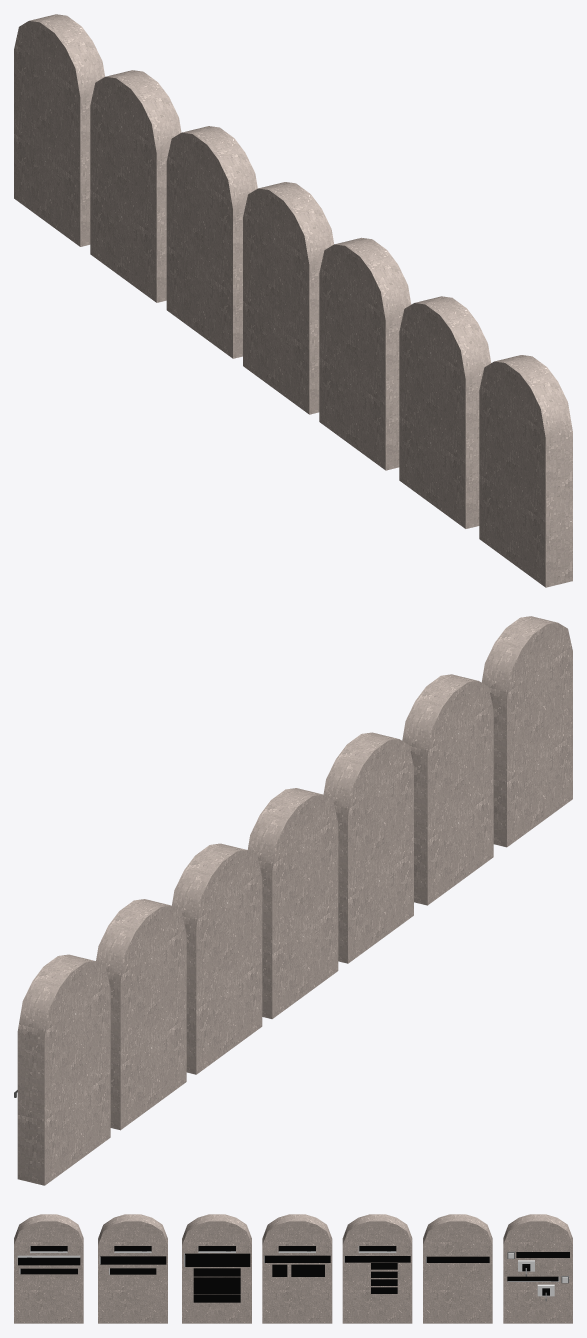
Rendered from Tombstones.fbx.
The picture shows the model from 3 angles, top to bottom: view 1: azimuth 30°, elevation 25°; view 2: azimuth 150°, elevation 25°; view 3: azimuth 270°, elevation 25°; orthographic projection. The views are drawn at different scales.
Visible parts, largest first — view 1: Tombstone_London, Tombstone_Zach, Tombstone_Nat, Tombstone_Cameron, Tombstone_SimpleFlips, Tombstone_ChiliCheese, Tombstone_Roshan; view 2: Tombstone_ChiliCheese, Tombstone_Zach, Tombstone_London, Tombstone_Cameron, Tombstone_Roshan, Tombstone_SimpleFlips, Tombstone_Nat; view 3: Tombstone_SimpleFlips, Tombstone_Zach, Tombstone_ChiliCheese, Tombstone_London, Tombstone_Cameron, Tombstone_Roshan, Tombstone_Nat, Text_5, Text_3, Text_4, Text_7, Text_6 (+3 smaller).
Boxes of the visible parts, <box> form: Tombstone_London: <box>479,355,572,587</box>; Tombstone_Zach: <box>399,296,491,528</box>; Tombstone_Nat: <box>319,237,411,470</box>; Tombstone_Cameron: <box>166,126,257,358</box>; Tombstone_SimpleFlips: <box>90,70,181,302</box>; Tombstone_ChiliCheese: <box>14,14,104,246</box>; Tombstone_Roshan: <box>243,182,333,414</box>; Tombstone_ChiliCheese: <box>17,954,110,1185</box>; Tombstone_Zach: <box>402,674,493,905</box>; Tombstone_London: <box>481,616,572,847</box>; Tombstone_Cameron: <box>172,843,262,1074</box>; Tombstone_Roshan: <box>247,788,338,1018</box>; Tombstone_SimpleFlips: <box>96,899,186,1130</box>; Tombstone_Nat: <box>323,732,413,963</box>; Tombstone_SimpleFlips: <box>423,1214,492,1323</box>; Tombstone_Zach: <box>98,1214,167,1323</box>; Tombstone_ChiliCheese: <box>503,1214,572,1323</box>; Tombstone_London: <box>14,1214,83,1323</box>; Tombstone_Cameron: <box>342,1214,412,1323</box>; Tombstone_Roshan: <box>262,1214,332,1323</box>; Tombstone_Nat: <box>182,1214,251,1323</box>; Text_5: <box>184,1246,250,1302</box>; Text_3: <box>344,1246,410,1293</box>; Text_4: <box>264,1246,330,1276</box>; Text_7: <box>17,1246,80,1274</box>; Text_6: <box>99,1246,166,1274</box>.
Bounding box in the file's own units: 44.48 × 148 × 731.
3 materials, 3 textured.
